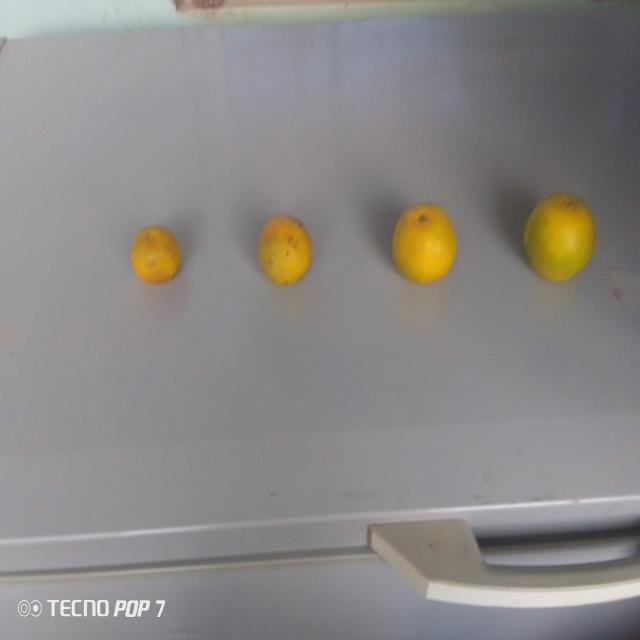agrume: (385, 202, 466, 286), (522, 193, 593, 287), (243, 208, 315, 289), (130, 222, 195, 294)
